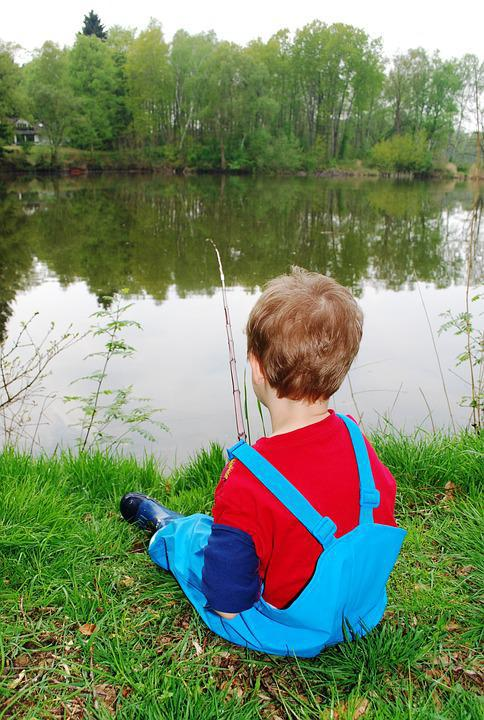child: (126, 275, 426, 663)
